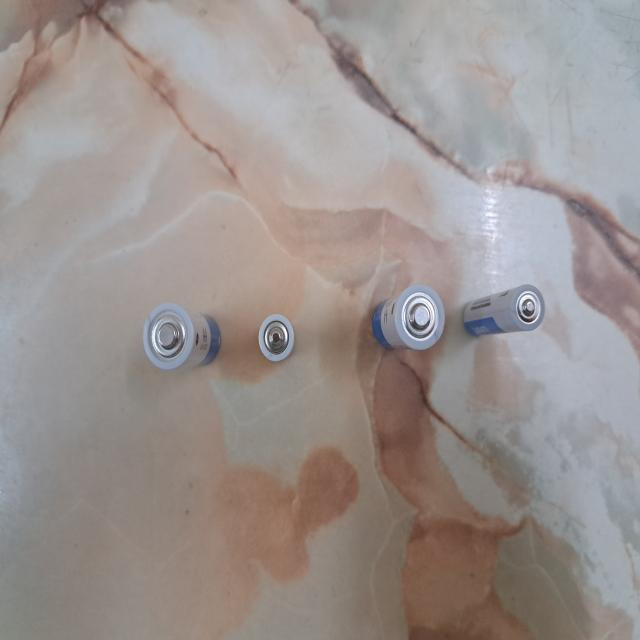battery: (143, 303, 222, 373), (373, 285, 445, 353), (462, 284, 546, 337), (258, 312, 295, 362)
